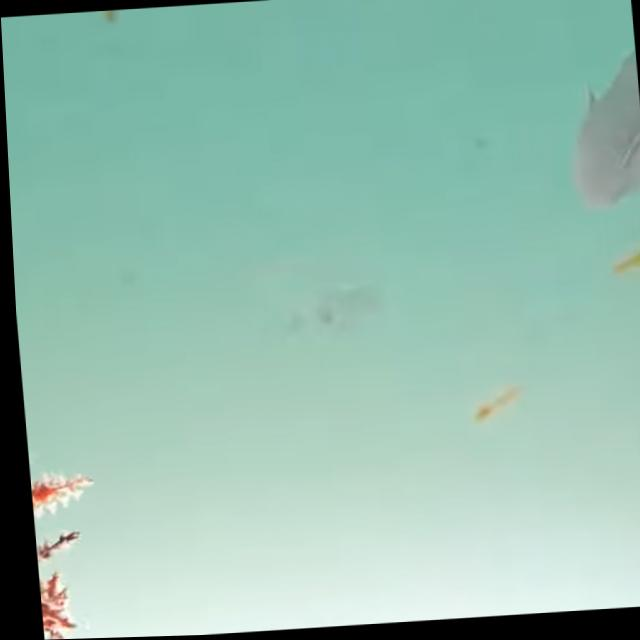fish: (545, 29, 640, 226)
